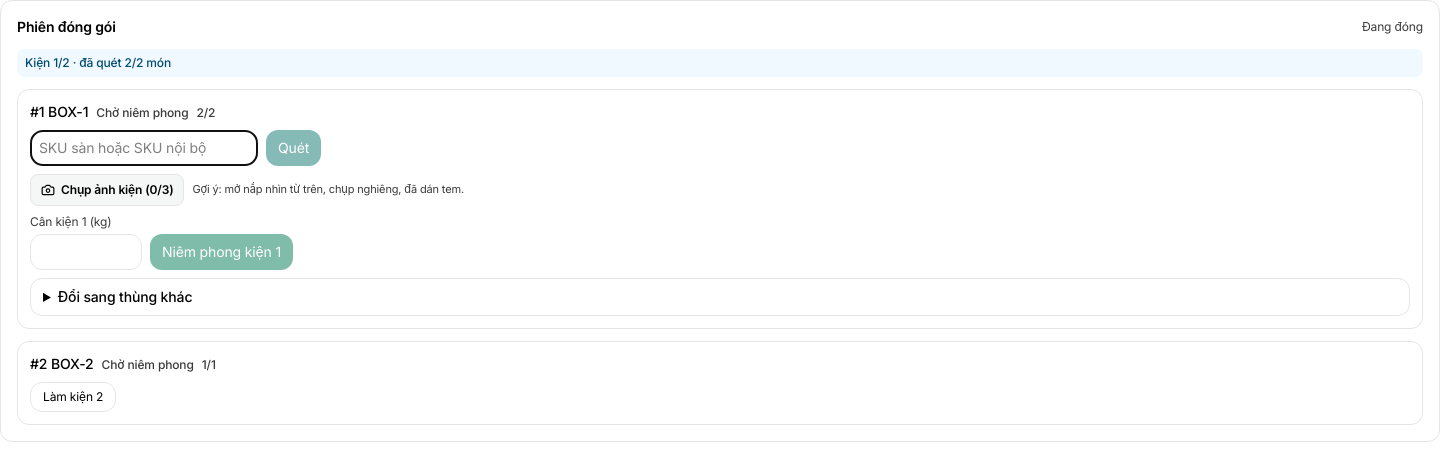
Test case: PackingSessionPanel › AC1 — niêm phong kiện 1 xong, kiện 2 có ô cân trống và nút "Niêm phong kiện 2" bị khoá
Step 1. Type "1.2" into the field labelled "Cân kiện 1 (kg)" → (86, 252), box [30,234,142,270]
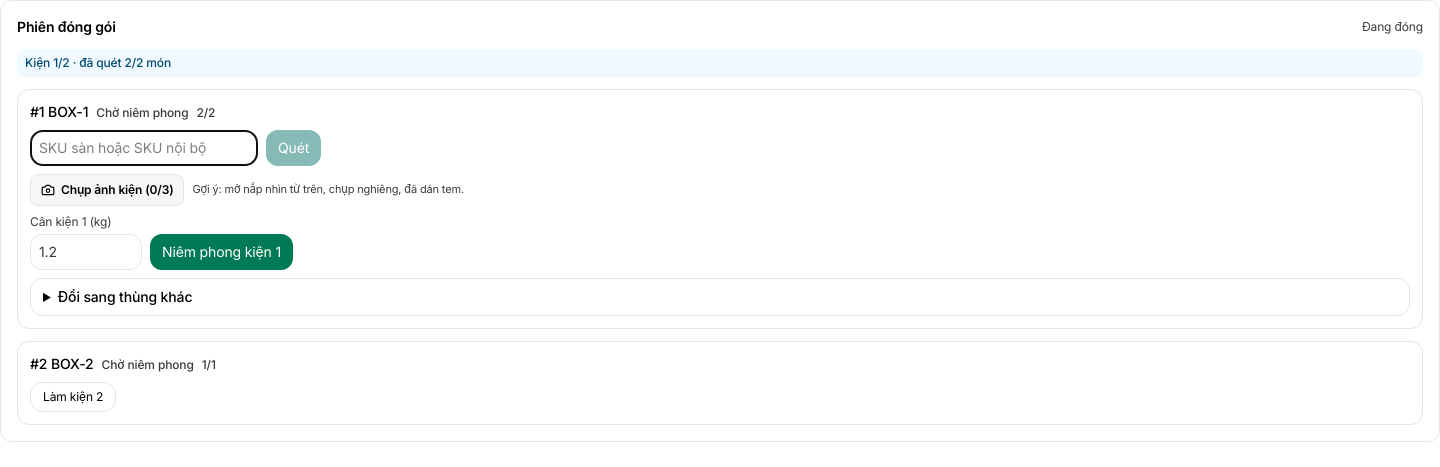
Step 2. Click the button "Niêm phong kiện 1" → (222, 252), box [150,234,293,270]
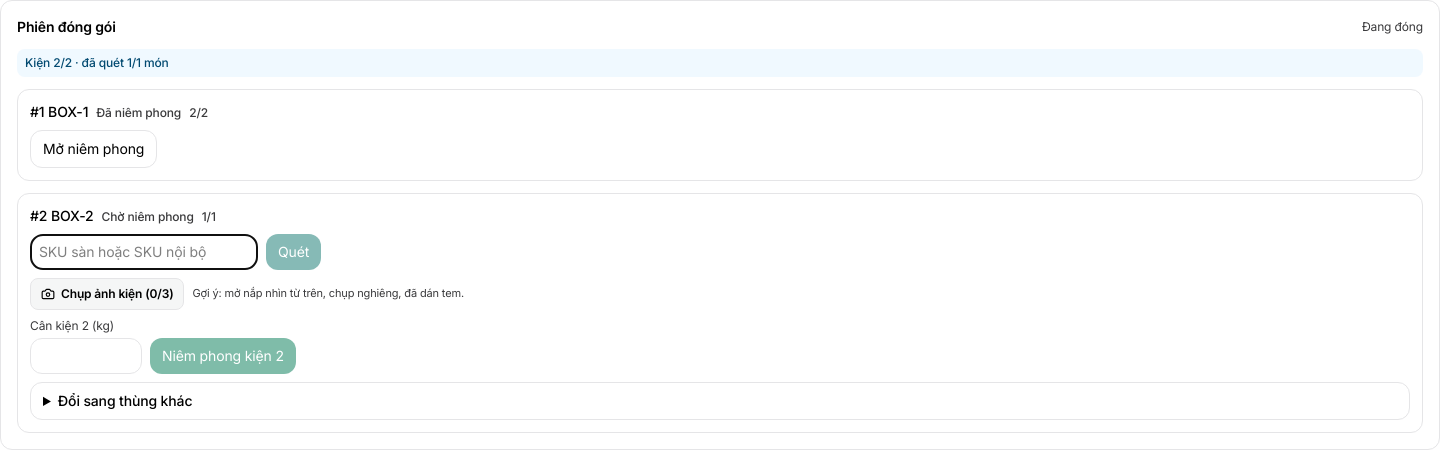
Result: the field labelled "Cân kiện 2 (kg)" is empty
Result: the button "Niêm phong kiện 2" is disabled at [150,338,296,374]
Step 3. Type "0.8" into the field labelled "Cân kiện 2 (kg)" → (86, 356), box [30,338,142,374]
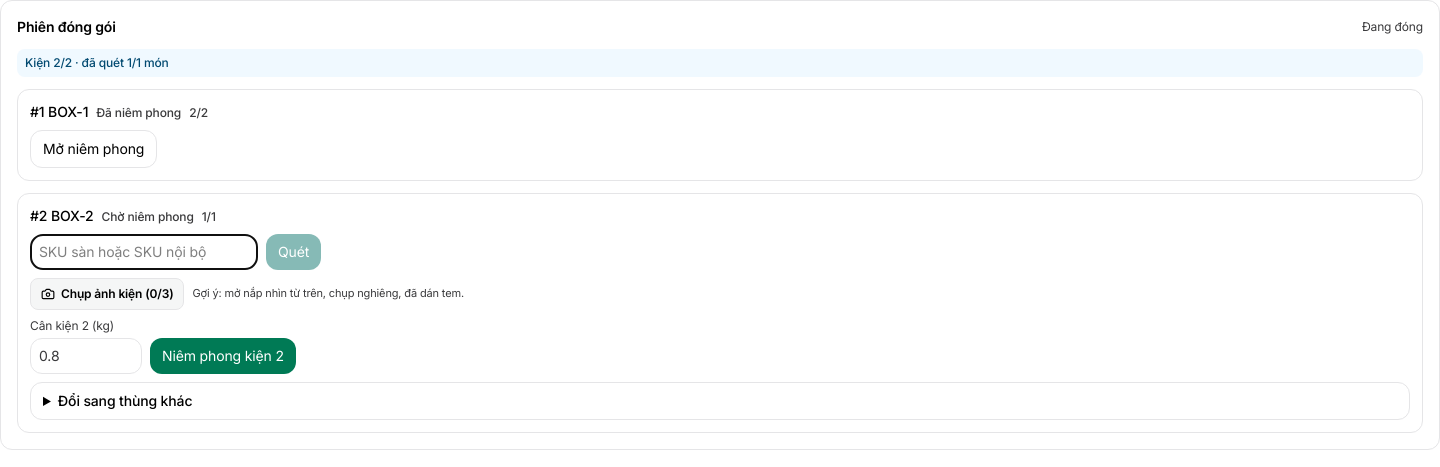
Result: the button "Niêm phong kiện 2" is enabled at [150,338,296,374]
